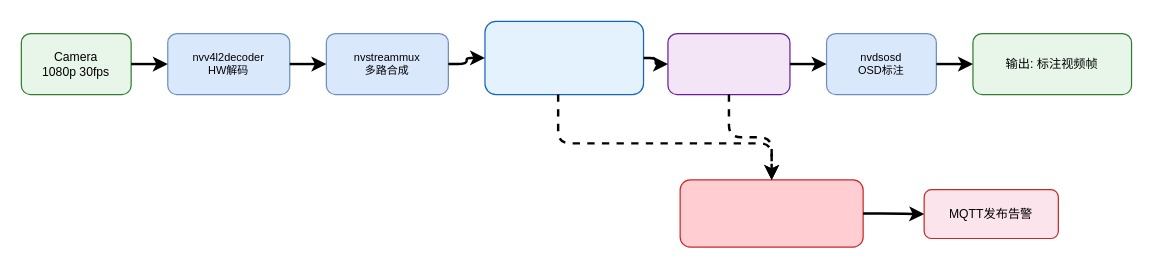
Image size: 1153x268. Some labels were removed from this diagram. The centre of each missing label's shape, as x and y in pixels:
nvinfer YOLO26n TRT FP16 640×640 4.57ms: point (564, 57)
nvtracker ByteTrack: point (728, 63)
告警规则引擎 ROI判断+去抖动30帧: point (771, 213)
